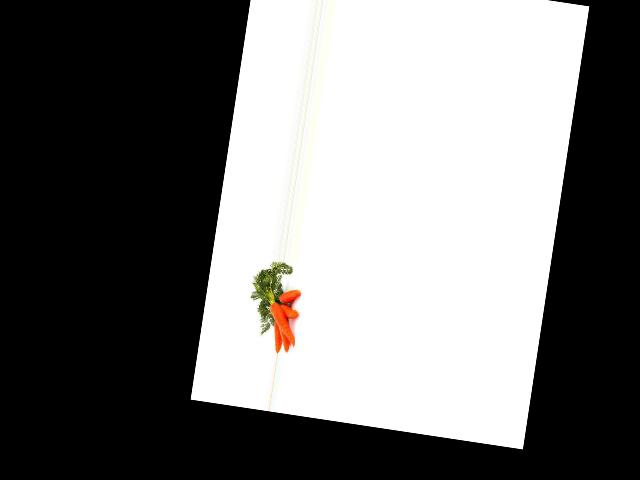carrot: (261, 295, 303, 345)
